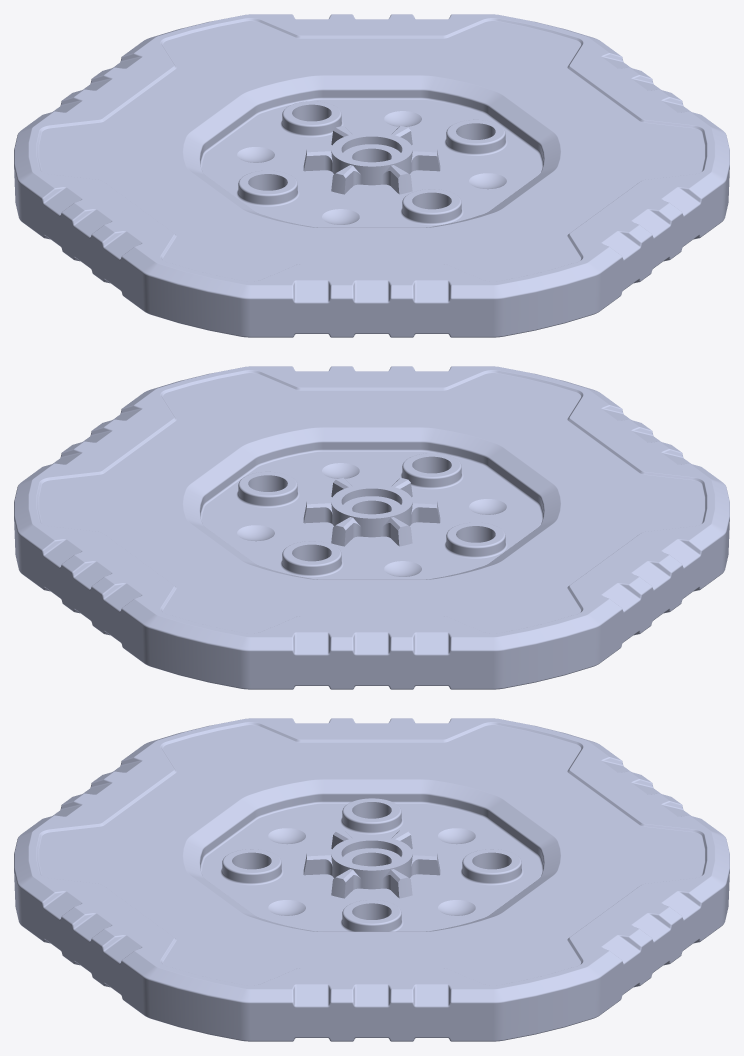
3 views of the same model, one above another, from view 1: azimuth 30°, elevation 25°; view 2: azimuth 150°, elevation 25°; view 3: azimuth 270°, elevation 25° (orthographic).
Visible parts, largest first — view 1: NAUO3, NAUO2; view 2: NAUO3, NAUO2; view 3: NAUO3, NAUO2.
Part boxes in pixels (x1,y1,x2,y2): NAUO3: (42,22,701,280); NAUO2: (14,14,729,337); NAUO3: (42,374,701,632); NAUO2: (14,366,729,689); NAUO3: (42,726,701,984); NAUO2: (14,718,729,1041).
Size of the model in its own units: 0.0709 by 0.00635 by 0.0757.
